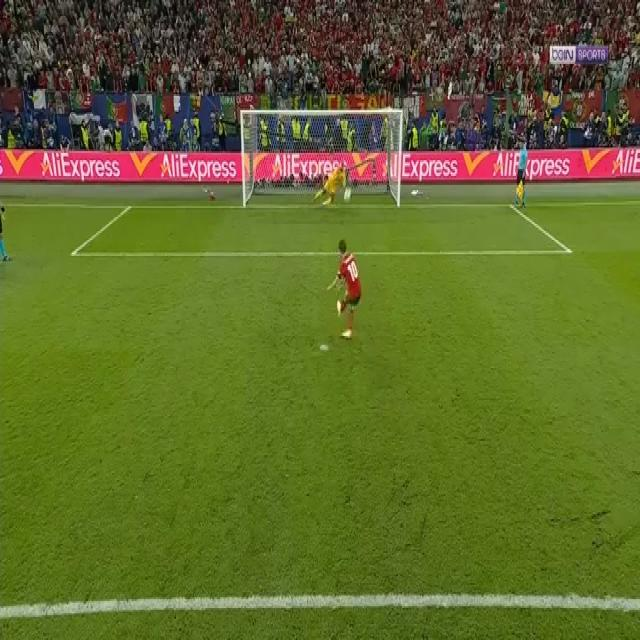arbitre: (508, 141, 534, 207)
ball: (342, 182, 358, 205)
cage: (240, 104, 400, 206)
gardien: (319, 129, 348, 207)
joueur: (326, 213, 360, 371)
